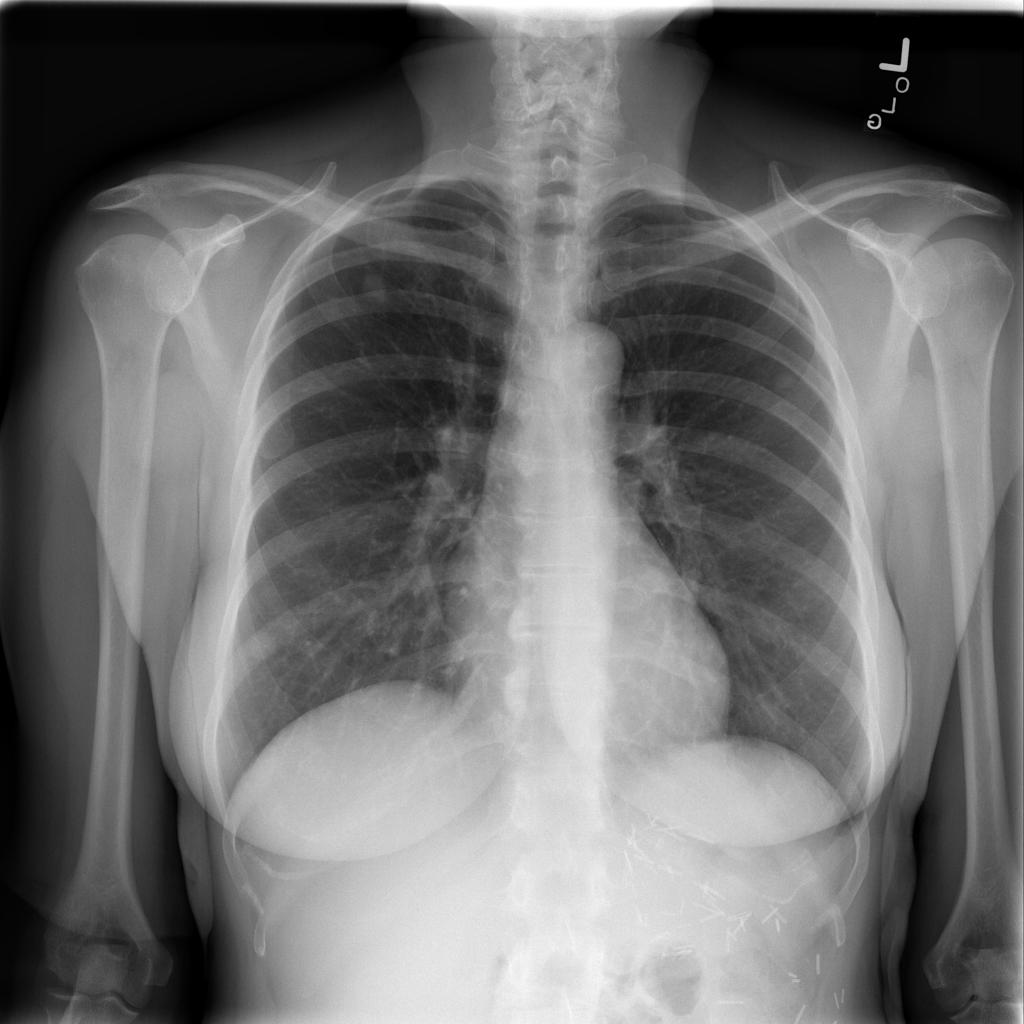nodule: (236, 619, 288, 670), (349, 260, 402, 310), (760, 356, 812, 406)
